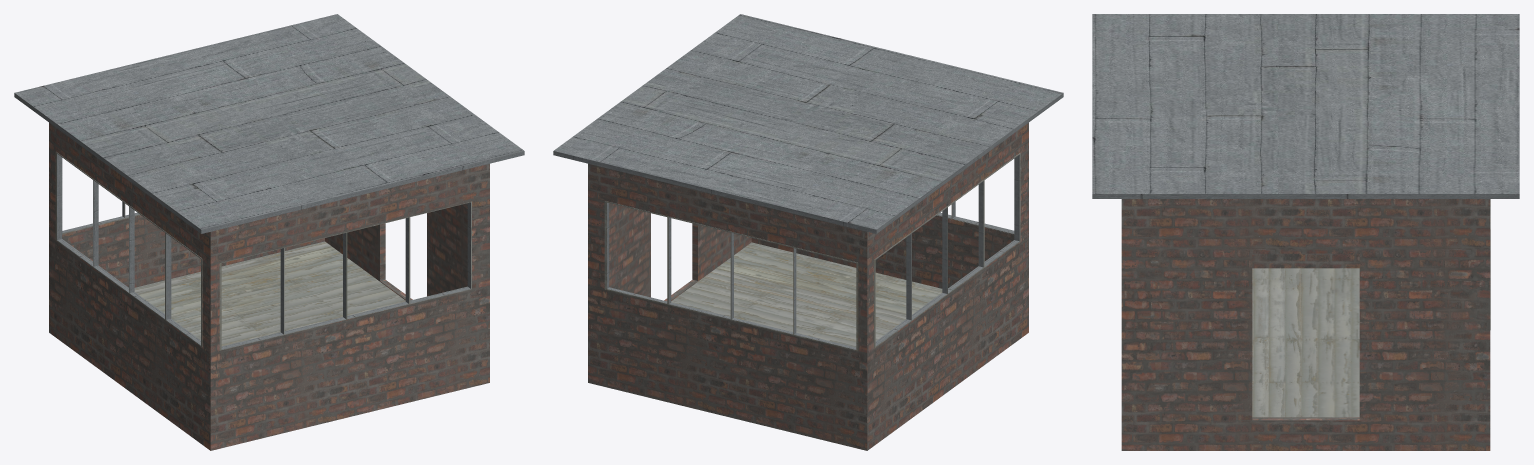
File: KPP_01.fbx
3 views of the same model, side by side, from view 1: azimuth 30°, elevation 25°; view 2: azimuth 150°, elevation 25°; view 3: azimuth 270°, elevation 25° (orthographic). The views are drawn at different scales.
Parts seen in each view (by area): view 1: Cube.001; view 2: Cube.001; view 3: Cube.001.
Boxes of the visible parts, x1,y1,x2,y2 form: Cube.001: (14,14,524,450); Cube.001: (553,14,1063,450); Cube.001: (1092,14,1519,450).
Size of the model in its own units: 463 by 323 by 464.
Materials: 5 (5 with a texture image).
